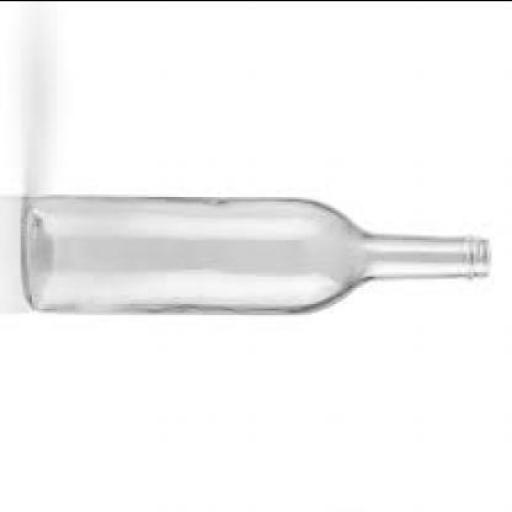glass: (24, 198, 494, 314)
